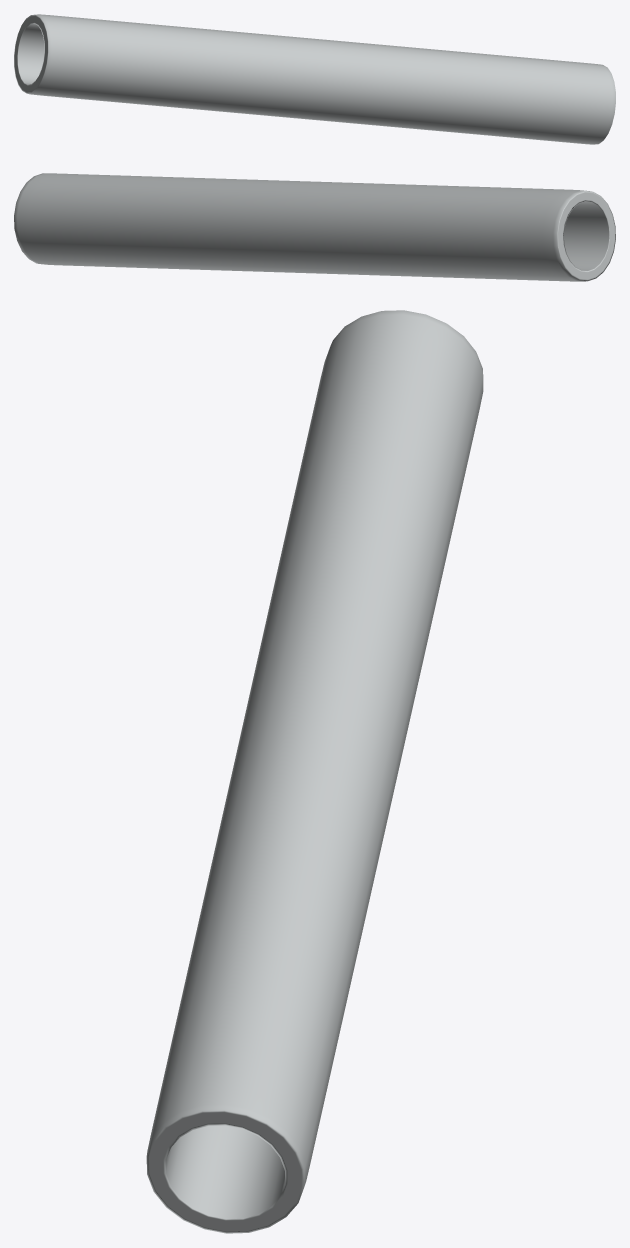
The model's file is pipe.fbx.
3 renders of one model, top to bottom at view 1: azimuth 30°, elevation 25°; view 2: azimuth 150°, elevation 25°; view 3: azimuth 270°, elevation 25°, orthographic. The views are drawn at different scales.
Parts seen in each view (by area): view 1: Pipe; view 2: Pipe; view 3: Pipe.
Part boxes in pixels (x1=…): Pipe: x1=14, y1=14, x2=615, y2=144; Pipe: x1=14, y1=173, x2=615, y2=281; Pipe: x1=146, y1=310, x2=483, y2=1233.
Size of the model in its own units: 1995 by 757 by 536.
Materials: 1 (1 with a texture image).
